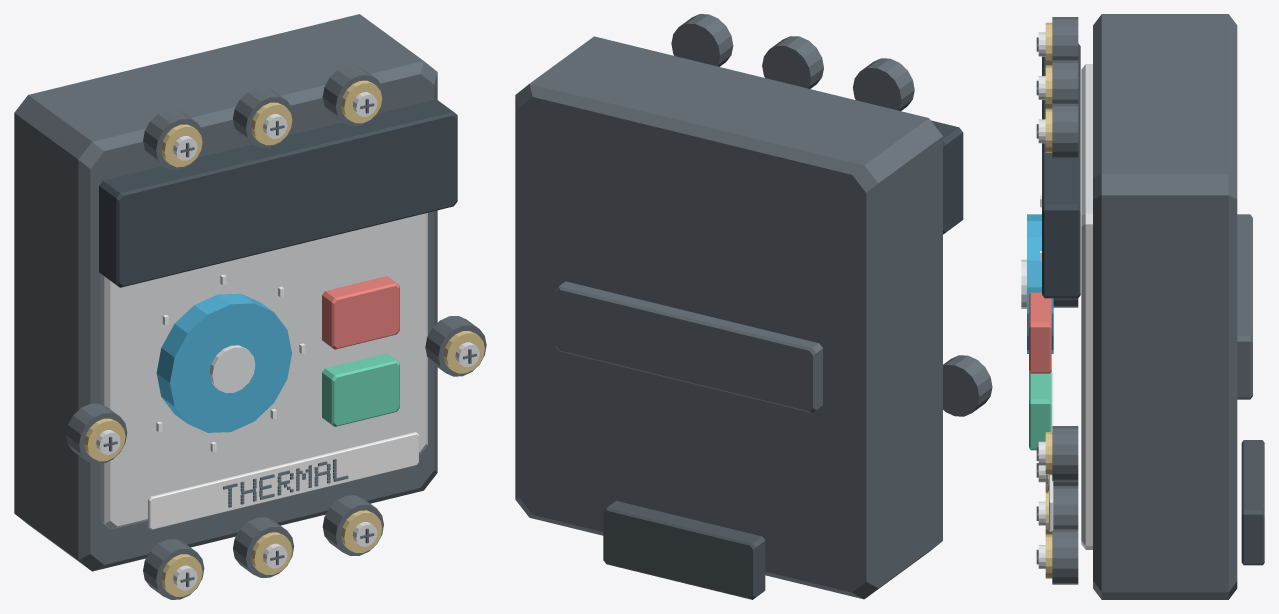
Rendered from thermalRelay.glb.
The picture shows the model from 3 angles, left to right: view 1: azimuth 30°, elevation 25°; view 2: azimuth 150°, elevation 25°; view 3: azimuth 270°, elevation 25°; orthographic projection.
Parts seen in each view (by area): view 1: thermalRelay-preview; view 2: thermalRelay-preview; view 3: thermalRelay-preview.
Boxes of the visible parts, x1,y1,x2,y2 form: thermalRelay-preview: [14, 14, 486, 599]; thermalRelay-preview: [515, 14, 992, 599]; thermalRelay-preview: [1021, 14, 1264, 599].
Bounding box in the file's own units: 2.65 × 2.98 × 1.38.
